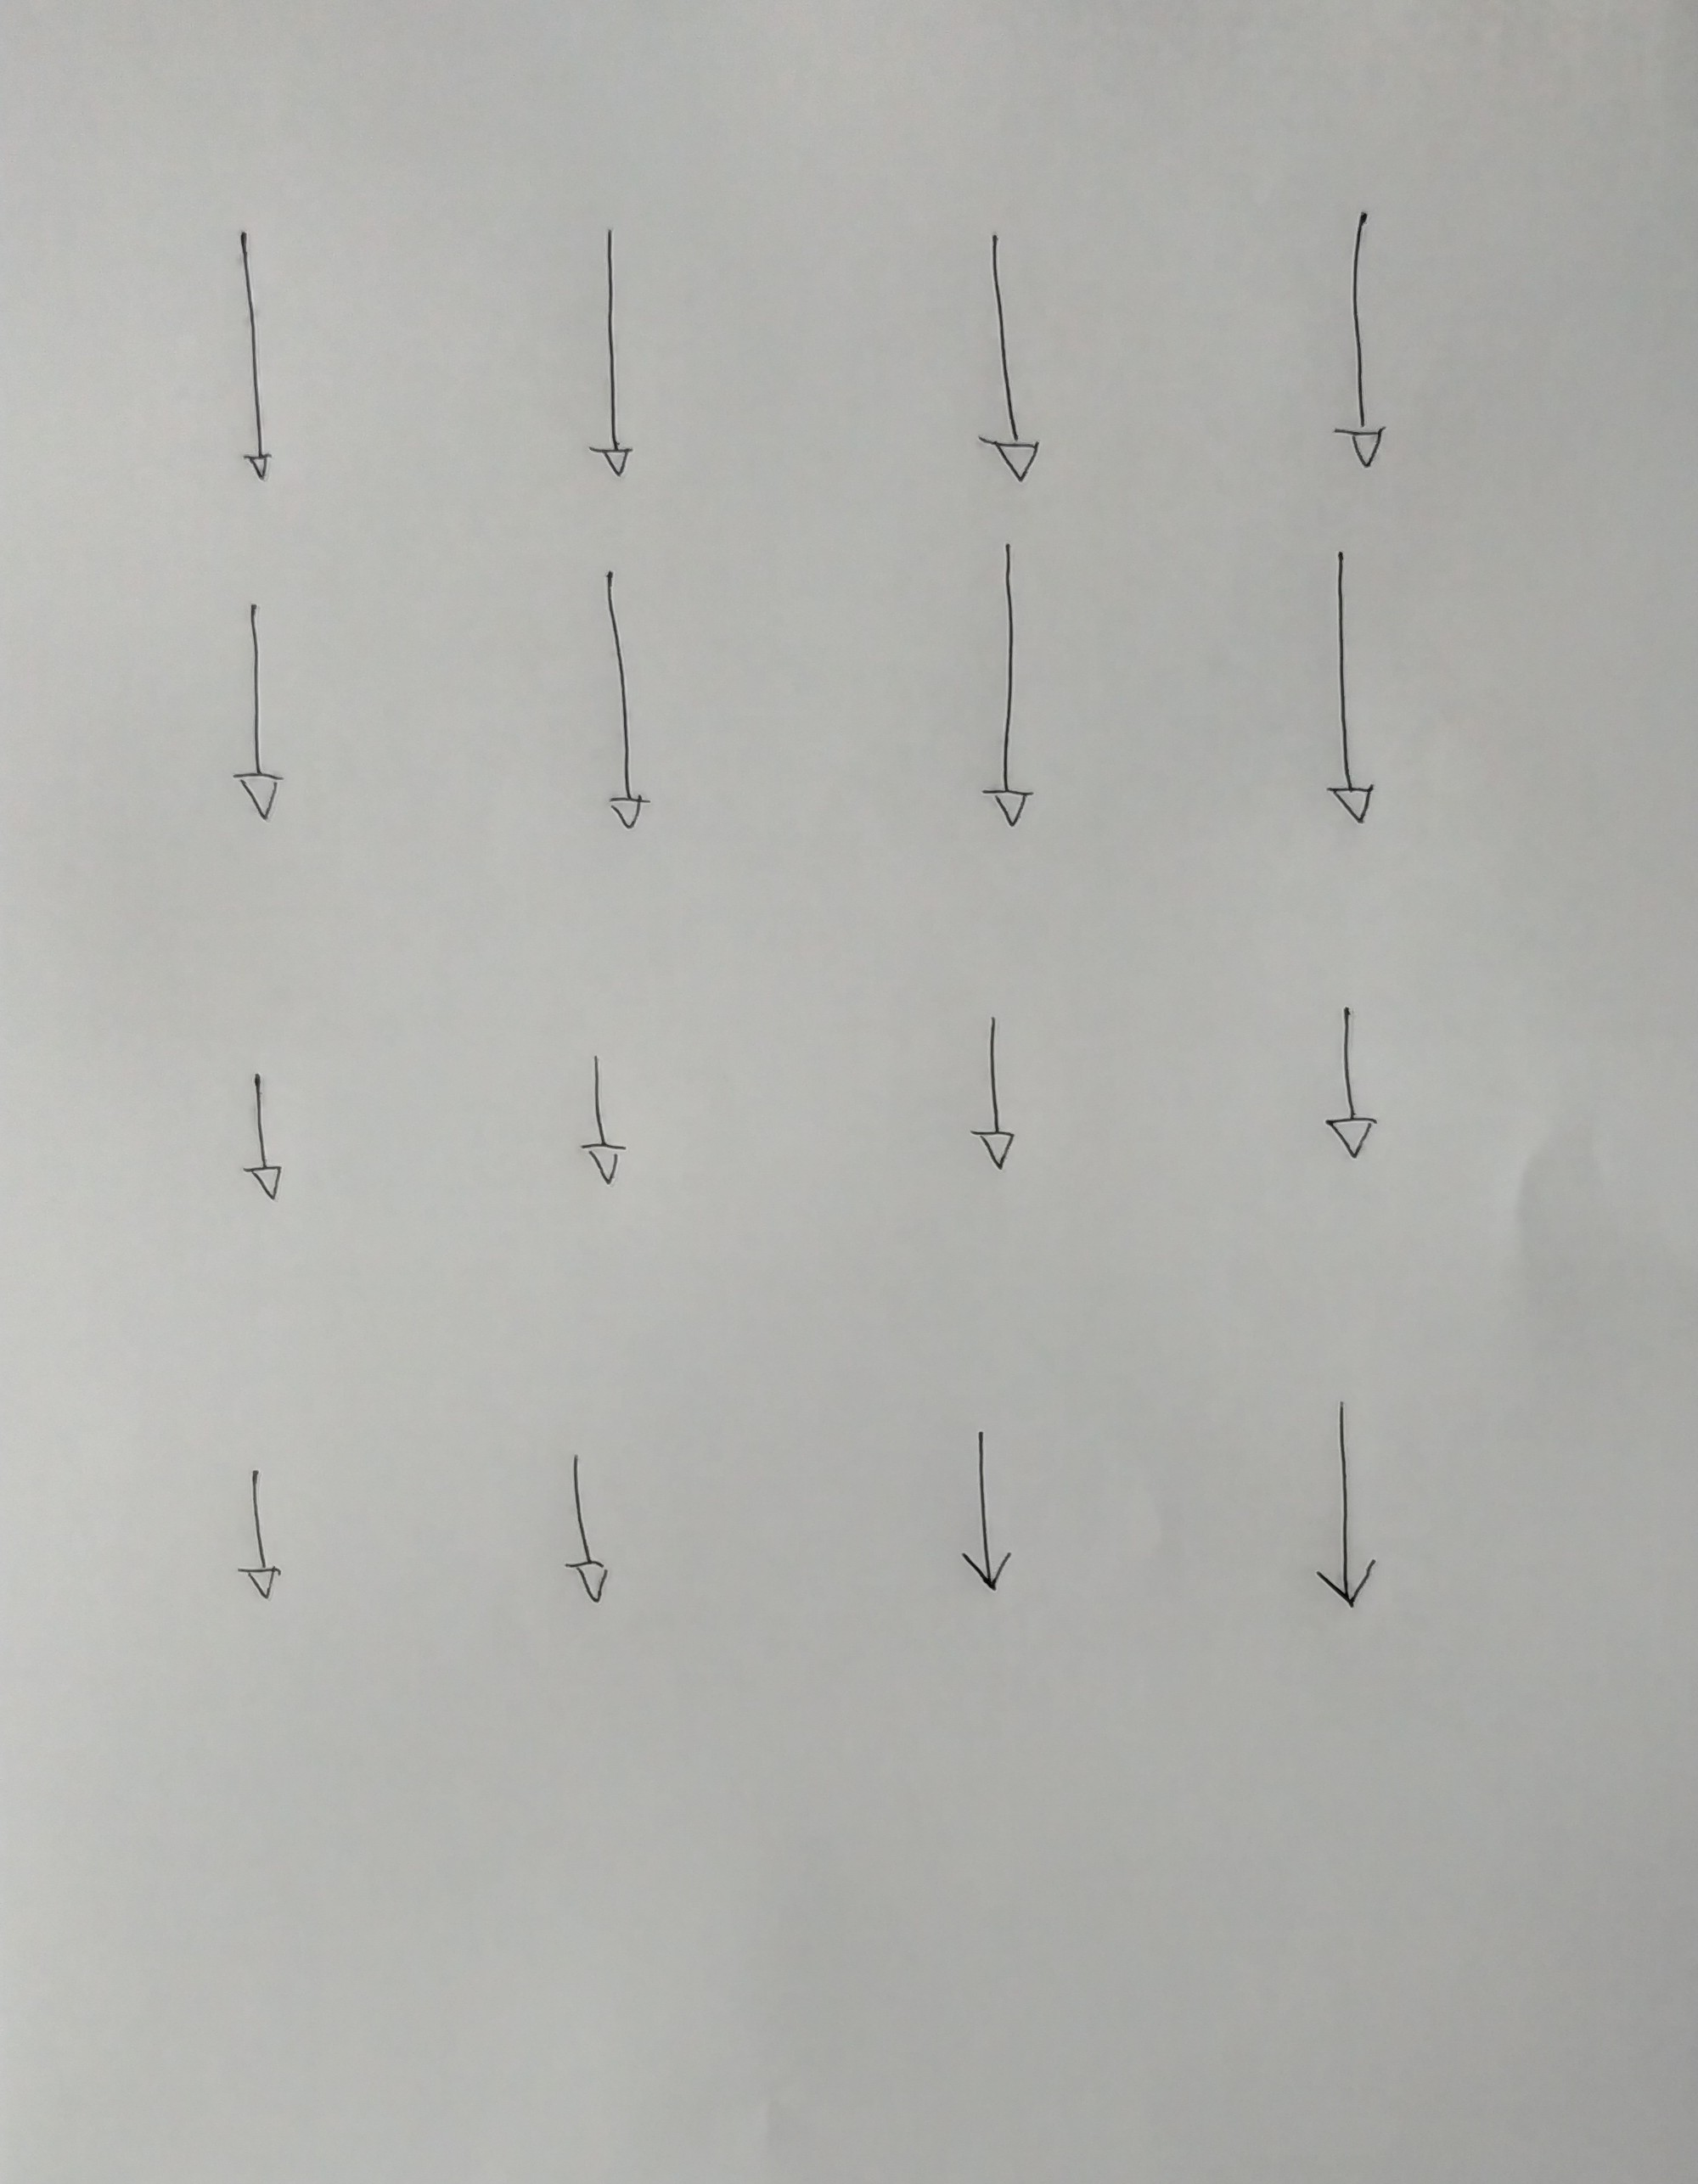arrow_line_down: (581, 550, 661, 837), (970, 222, 1049, 496), (1328, 200, 1406, 475), (1313, 534, 1379, 833), (214, 218, 284, 500), (576, 218, 647, 484), (980, 535, 1037, 838), (1306, 1383, 1379, 1617), (223, 599, 294, 837), (941, 1420, 1023, 1606), (1312, 996, 1391, 1170), (548, 1443, 617, 1620), (567, 1049, 643, 1202), (964, 1009, 1030, 1182), (230, 1062, 296, 1220), (225, 1454, 289, 1610)
